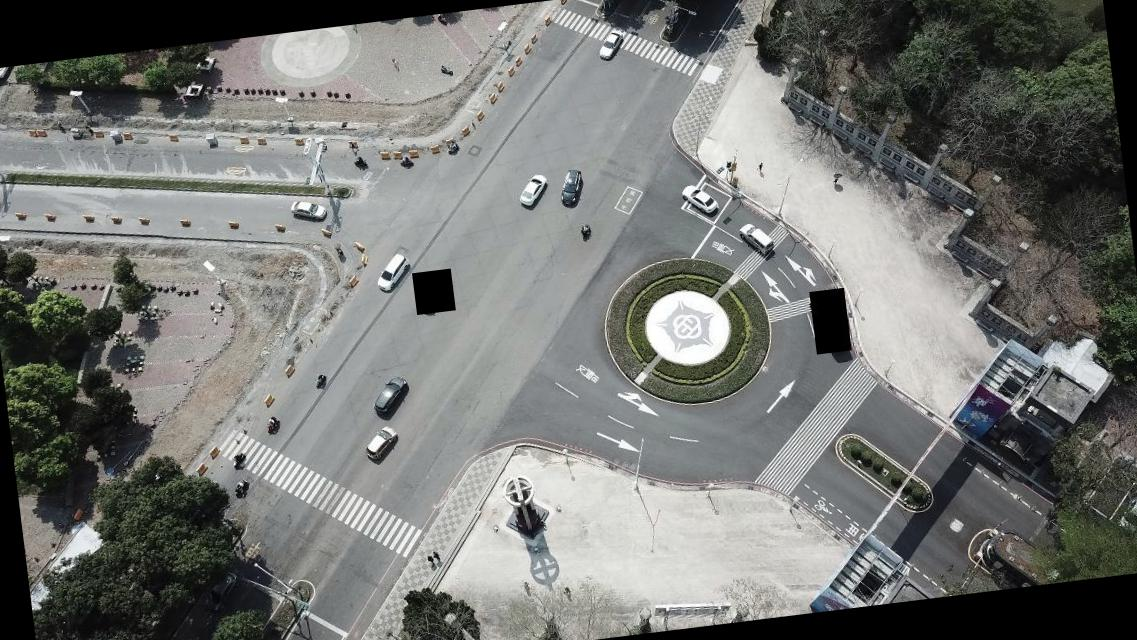vehicle: (373, 250, 411, 293), (370, 376, 410, 416), (680, 180, 718, 218), (362, 424, 398, 463), (738, 220, 773, 256), (516, 172, 549, 207), (556, 168, 584, 206), (288, 196, 327, 223), (1113, 491, 1136, 536), (595, 28, 625, 61)
